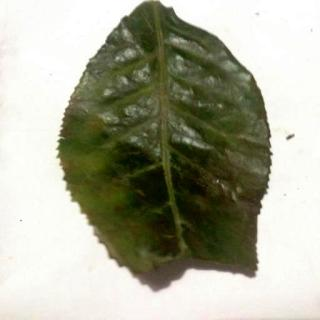Red Leaf Spot: (59, 3, 270, 293)
